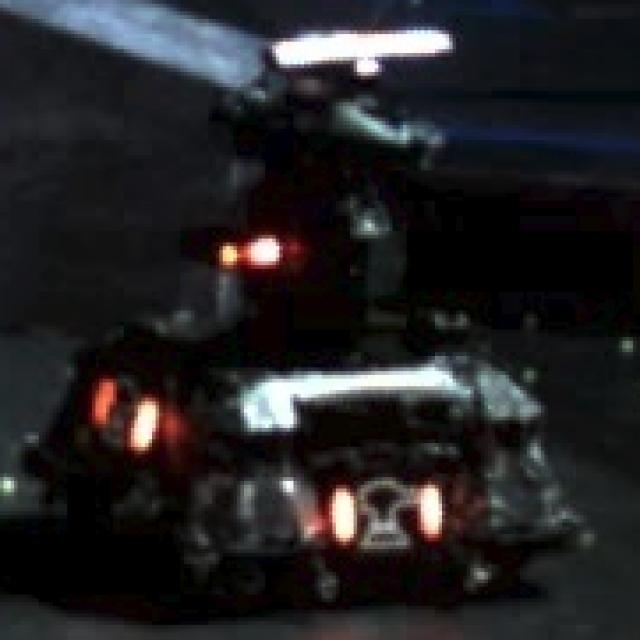Rs: (332, 477, 446, 549), (92, 375, 163, 451)
